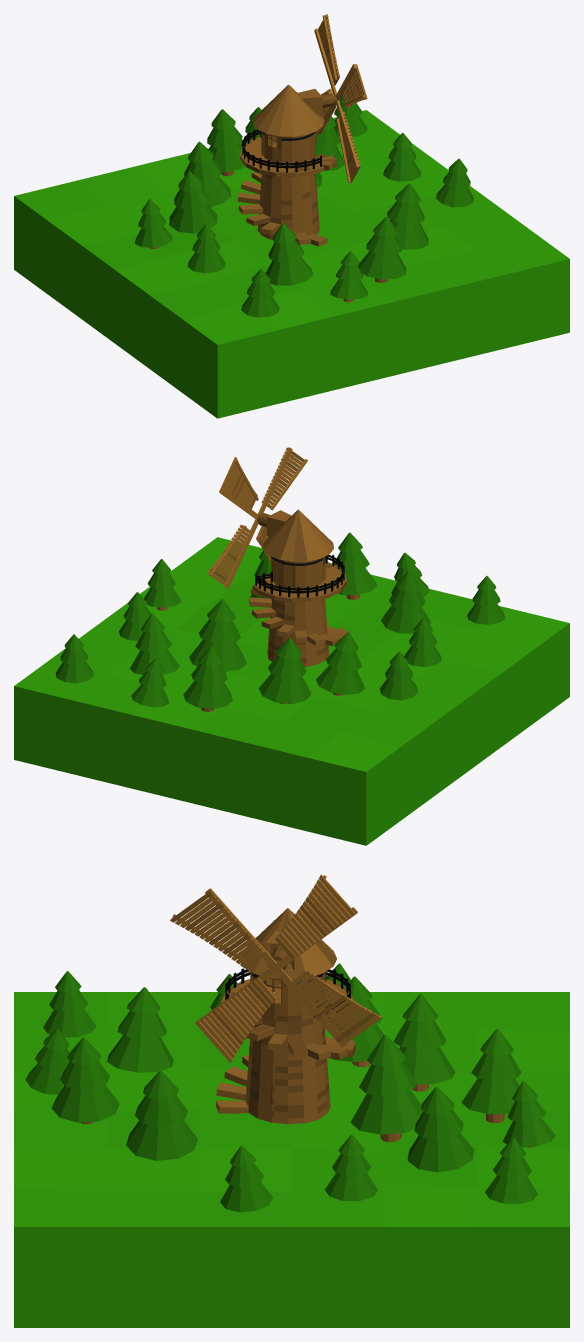
The model's file is moulin_001.fbx.
3 renders of one model, top to bottom at view 1: azimuth 30°, elevation 25°; view 2: azimuth 150°, elevation 25°; view 3: azimuth 270°, elevation 25°, orthographic. The views are drawn at different scales.
Parts seen in each view (by area): view 1: Cube.001, moulin, palmes, Cylinder.006, Cylinder.012, Cylinder.005, Cylinder.009, Cylinder.014, Cylinder.011, Cylinder.001, Cylinder.002, Cylinder.004 (+6 smaller); view 2: Cube.001, moulin, palmes, Cylinder.011, Cylinder.013, Cylinder.014, Cylinder.012, Cylinder.005, Cylinder.015, Cylinder.006, Cylinder.019, Cylinder.018 (+7 smaller); view 3: Cube.001, moulin, palmes, Cylinder.013, Cylinder.009, Cylinder.015, Cylinder.006, Cylinder.005, Cylinder.011, Cylinder.014, Cylinder.001, Cylinder.016 (+6 smaller).
Part boxes in pixels (x1,y1,x2,y2): Cube.001: (14, 110, 569, 418); moulin: (238, 84, 336, 246); palmes: (314, 14, 367, 182); Cylinder.006: (358, 217, 406, 282); Cylinder.012: (169, 171, 217, 233); Cylinder.005: (265, 223, 313, 285); Cylinder.009: (387, 183, 428, 249); Cylinder.014: (207, 109, 244, 176); Cylinder.011: (184, 141, 231, 207); Cylinder.001: (436, 158, 473, 207); Cylinder.002: (241, 269, 279, 317); Cylinder.004: (187, 224, 225, 273); Cube.001: (14, 537, 569, 845); moulin: (249, 509, 348, 666); palmes: (207, 447, 307, 588); Cylinder.011: (258, 638, 311, 704); Cylinder.013: (189, 599, 246, 671); Cylinder.014: (183, 646, 232, 711); Cylinder.012: (316, 632, 365, 695); Cylinder.005: (381, 571, 430, 633); Cylinder.015: (130, 613, 179, 674); Cylinder.006: (334, 532, 377, 599); Cylinder.019: (379, 651, 417, 700); Cylinder.018: (55, 634, 93, 683); Cube.001: (14, 992, 569, 1327); moulin: (216, 908, 356, 1123); palmes: (170, 874, 381, 1062); Cylinder.013: (350, 1035, 423, 1142); Cylinder.009: (126, 1070, 197, 1160); Cylinder.015: (407, 1087, 474, 1172); Cylinder.006: (51, 1037, 119, 1123); Cylinder.005: (107, 987, 173, 1072); Cylinder.011: (393, 994, 454, 1091); Cylinder.014: (461, 1029, 521, 1122); Cylinder.001: (220, 1145, 273, 1212); Cylinder.016: (325, 1134, 377, 1201).
Size of the model in its own units: 200 by 145 by 200.
